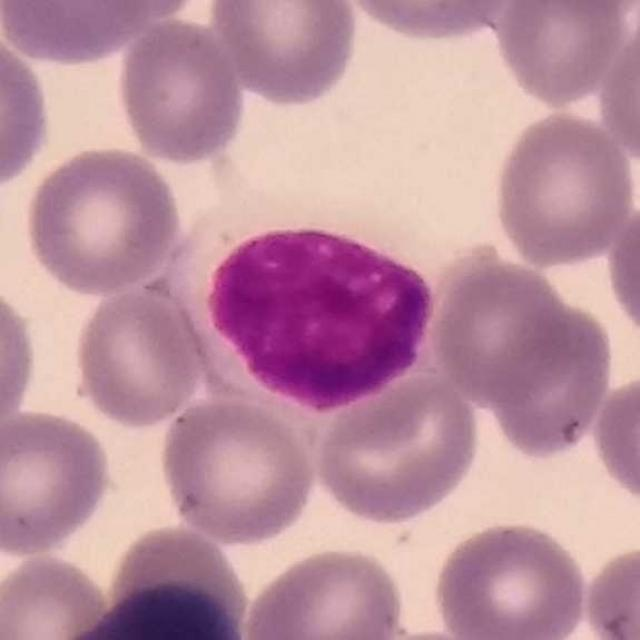Lymphocyte: (176, 181, 441, 413)
RBC: (311, 367, 484, 528), (426, 249, 584, 412), (20, 142, 185, 298), (156, 393, 319, 546), (487, 107, 639, 270), (478, 292, 618, 462), (112, 13, 248, 167), (427, 516, 591, 640), (69, 284, 206, 432), (0, 405, 116, 559), (204, 0, 363, 110), (239, 543, 410, 640), (114, 520, 254, 638), (491, 0, 633, 110), (0, 0, 163, 68), (1, 551, 115, 640), (0, 26, 55, 192), (333, 0, 521, 45), (594, 8, 640, 171), (589, 368, 640, 514), (0, 276, 40, 444), (579, 540, 640, 640), (602, 196, 640, 352), (57, 0, 211, 23), (523, 0, 640, 19)
